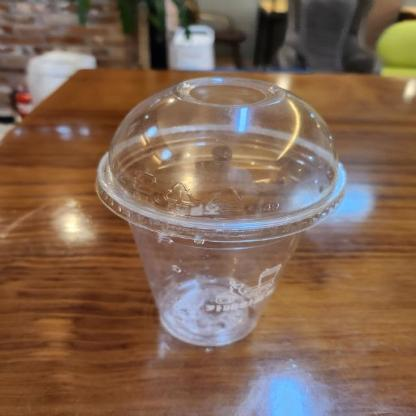Plastic Cup: (95, 77, 343, 348)
